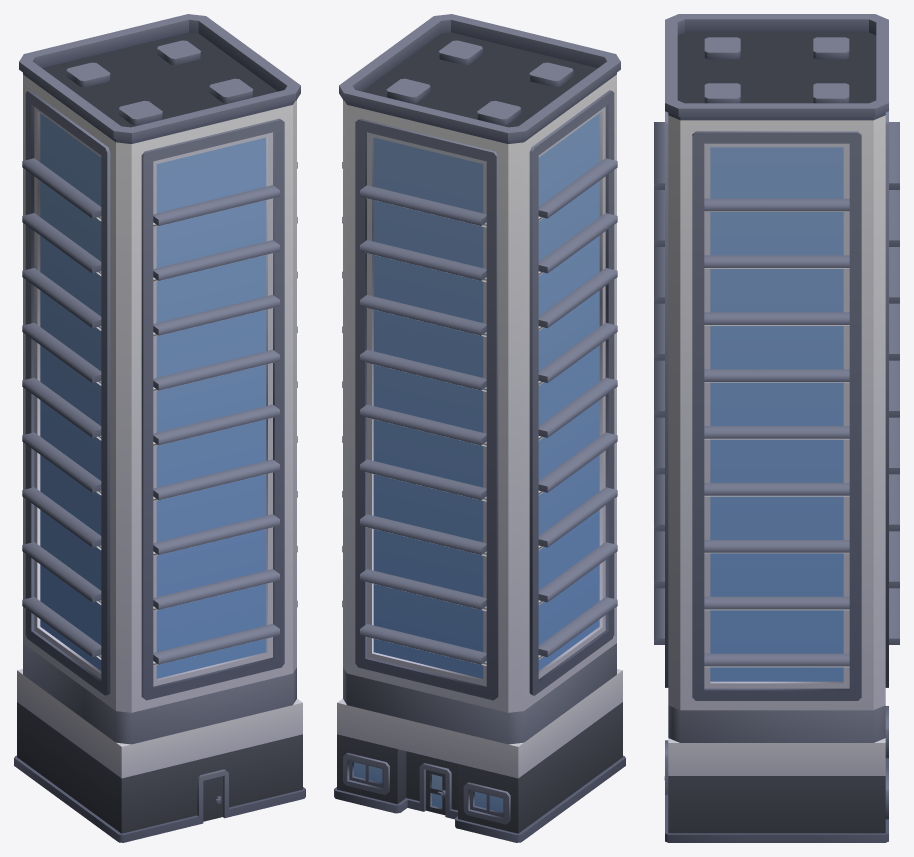
File: Building07.glb
3 renders of one model, left to right at view 1: azimuth 30°, elevation 25°; view 2: azimuth 150°, elevation 25°; view 3: azimuth 270°, elevation 25°, orthographic. The views are drawn at different scales.
Visible parts, largest first — view 1: building-skyscraper-b; view 2: building-skyscraper-b; view 3: building-skyscraper-b.
Boxes of the visible parts, x1,y1,x2,y2 form: building-skyscraper-b: (14, 14, 305, 842); building-skyscraper-b: (334, 14, 625, 842); building-skyscraper-b: (654, 14, 899, 842).
Size of the model in its own units: 1.36 by 4.48 by 1.36.
1 material, 1 textured.
